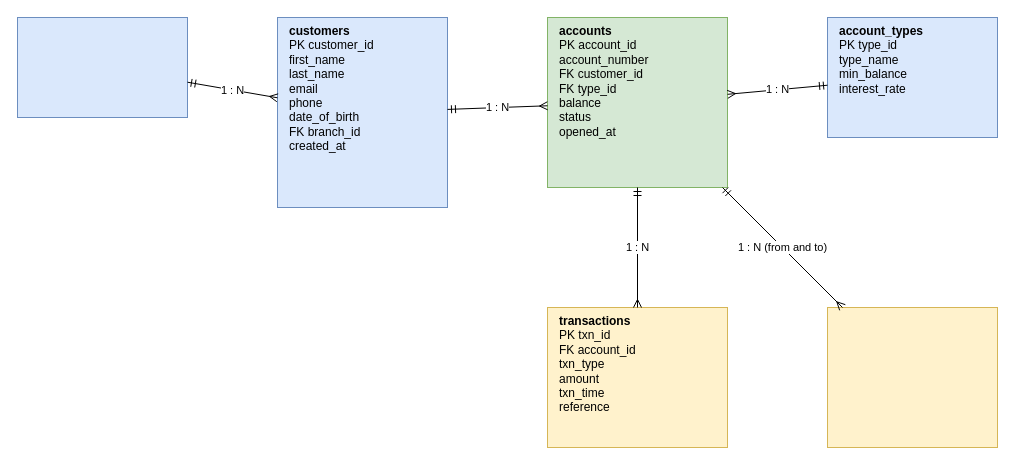
The diagram is 1015 pixels wide and 465 high, and some of its shapes have lost their labels. Here are the shapes that lost their labels. From the top down, the box of each, then its label:
(16, 16, 188, 118): branches PK branch_id branch_name city
(826, 306, 998, 448): transfers PK transfer_id FK from_account FK to_account amount status created_at
